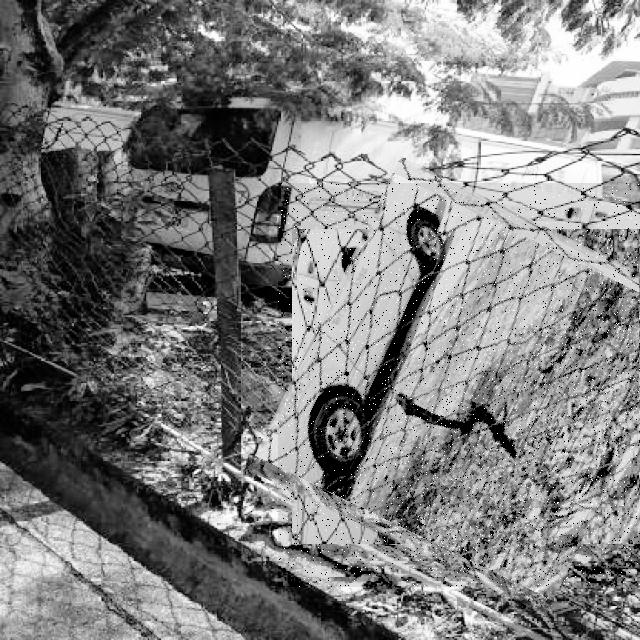fences: (278, 183, 640, 587)
